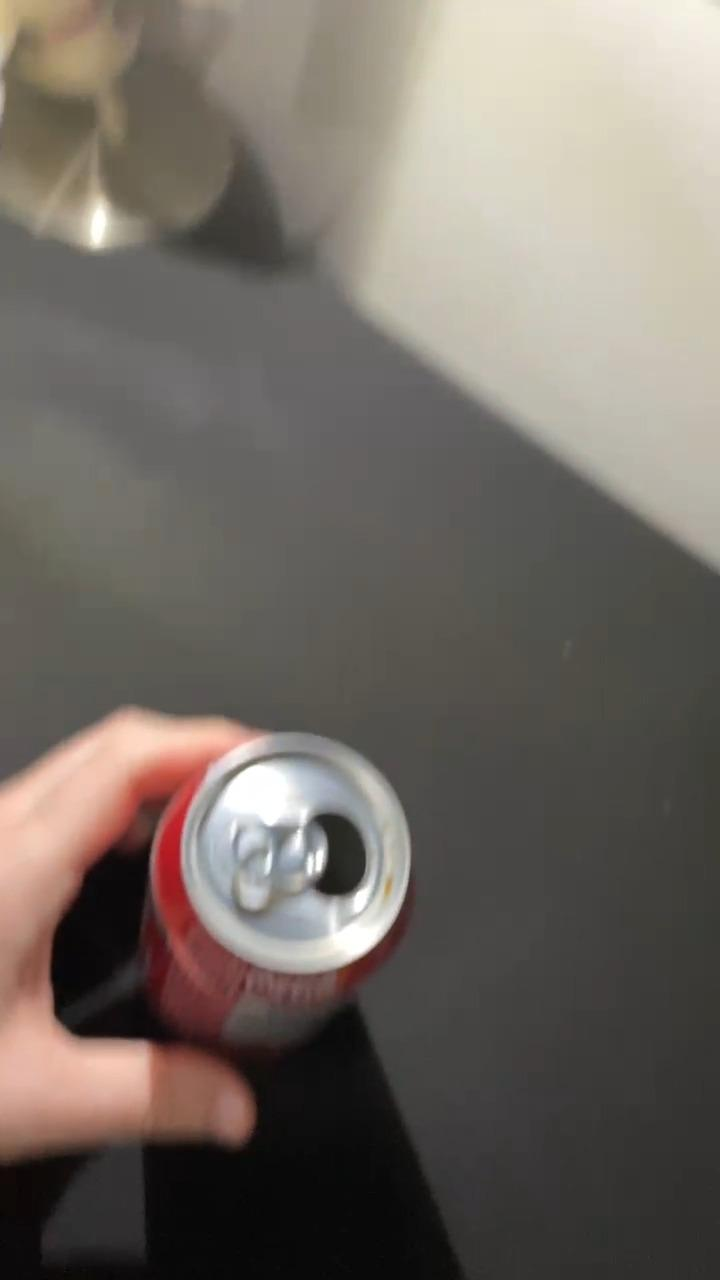coke: (129, 721, 423, 1064)
